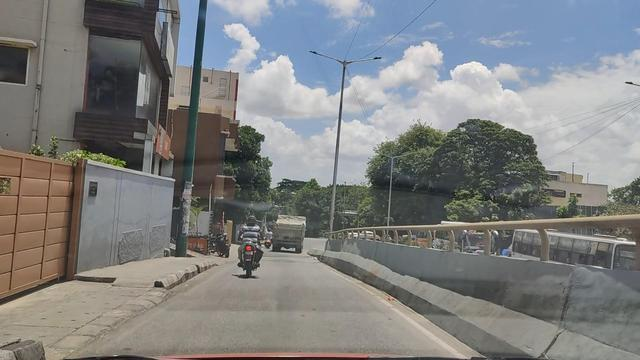HMV: (265, 203, 308, 256)
LMV: (231, 210, 272, 283)
